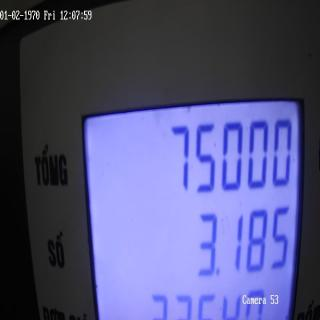screen: (74, 85, 310, 320)
